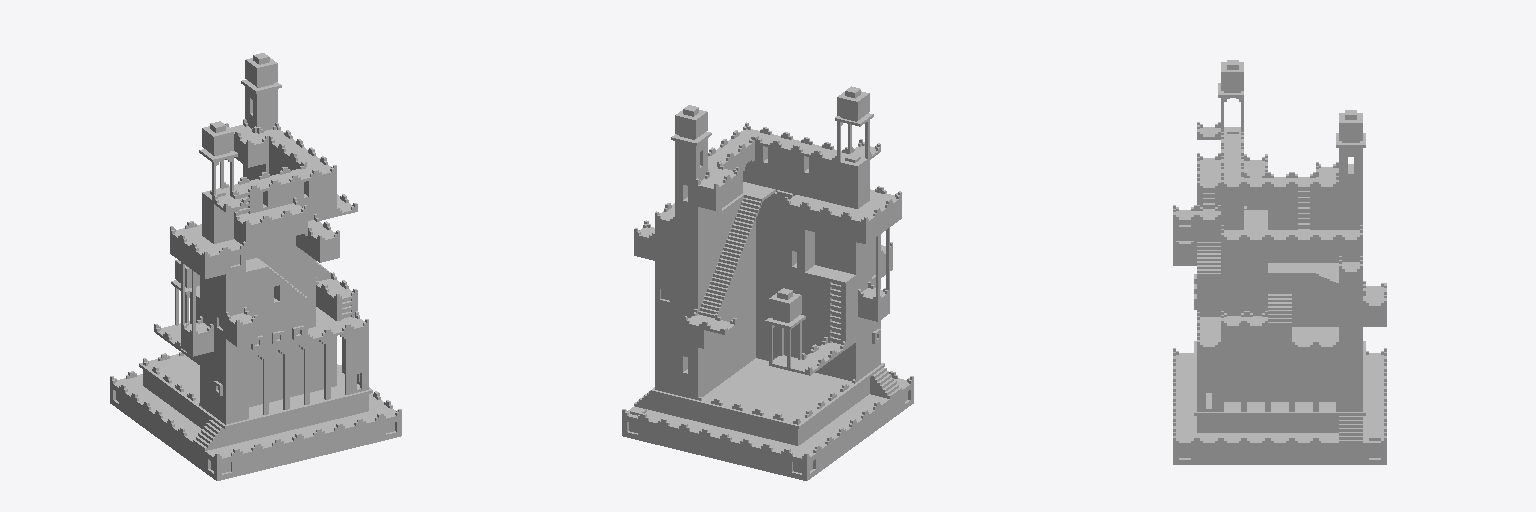
File: tower.obj
3 renders of one model, left to right at view 1: azimuth 30°, elevation 25°; view 2: azimuth 150°, elevation 25°; view 3: azimuth 270°, elevation 25°, orthographic.
Parts seen in each view (by area): view 1: tower; view 2: tower; view 3: tower.
Boxes of the visible parts, x1=… form: tower: x1=110, y1=53, x2=401, y2=480; tower: x1=622, y1=86, x2=913, y2=480; tower: x1=1173, y1=60, x2=1386, y2=464.
Bounding box in the file's own units: 72 × 122 × 72.